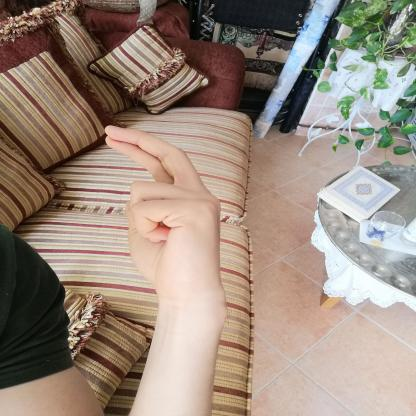ZAY: (90, 118, 236, 311)
